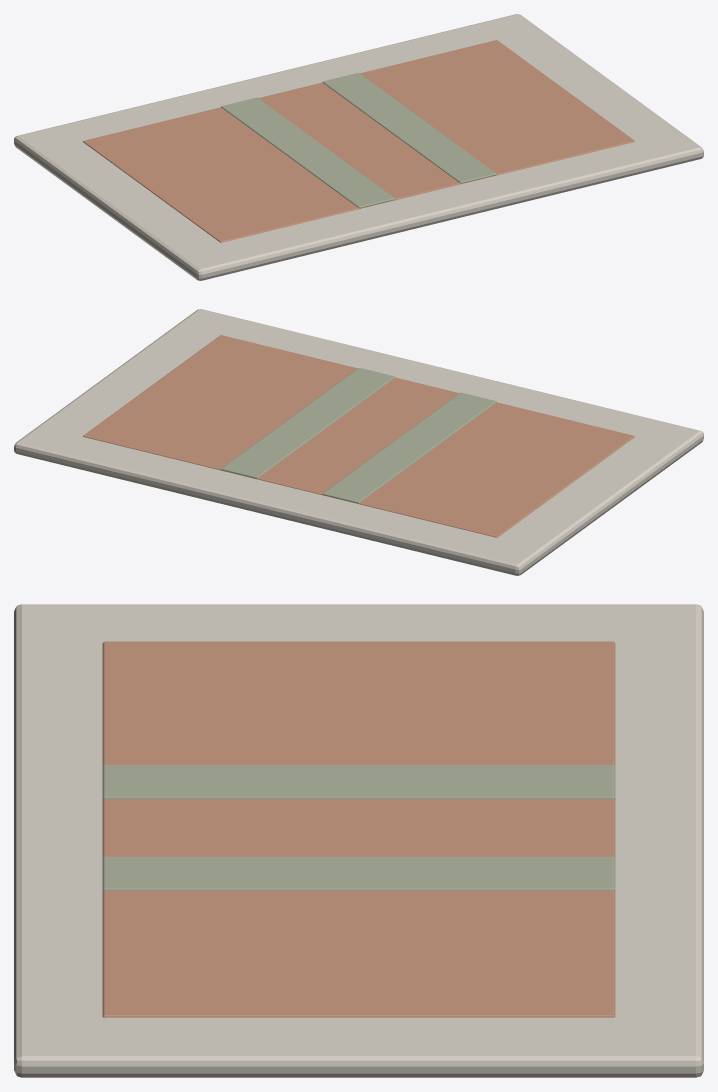
Rendered from piso_tapete_cozinha3.glb.
3 views of the same model, one above another, from view 1: azimuth 30°, elevation 25°; view 2: azimuth 150°, elevation 25°; view 3: azimuth 270°, elevation 25° (orthographic). The views are drawn at different scales.
Visible parts, largest first — view 1: PISO_TapeteCozinha3_Faixa, PISO_TapeteCozinha3_Base, PISO_TapeteCozinha3_Lista1, PISO_TapeteCozinha3_Lista2; view 2: PISO_TapeteCozinha3_Faixa, PISO_TapeteCozinha3_Base, PISO_TapeteCozinha3_Lista1, PISO_TapeteCozinha3_Lista2; view 3: PISO_TapeteCozinha3_Faixa, PISO_TapeteCozinha3_Base, PISO_TapeteCozinha3_Lista1, PISO_TapeteCozinha3_Lista2.
Boxes of the visible parts, bbox=[...] form: PISO_TapeteCozinha3_Faixa: bbox=[83, 40, 634, 242]; PISO_TapeteCozinha3_Base: bbox=[14, 14, 703, 280]; PISO_TapeteCozinha3_Lista1: bbox=[221, 97, 395, 208]; PISO_TapeteCozinha3_Lista2: bbox=[322, 73, 496, 183]; PISO_TapeteCozinha3_Faixa: bbox=[83, 335, 634, 537]; PISO_TapeteCozinha3_Base: bbox=[14, 309, 703, 575]; PISO_TapeteCozinha3_Lista1: bbox=[322, 392, 496, 503]; PISO_TapeteCozinha3_Lista2: bbox=[221, 368, 395, 478]; PISO_TapeteCozinha3_Faixa: bbox=[102, 641, 615, 1017]; PISO_TapeteCozinha3_Base: bbox=[14, 604, 703, 1077]; PISO_TapeteCozinha3_Lista1: bbox=[102, 765, 615, 799]; PISO_TapeteCozinha3_Lista2: bbox=[102, 856, 615, 890].
Bounding box in the file's own units: 1.1 × 0.028 × 0.7.
